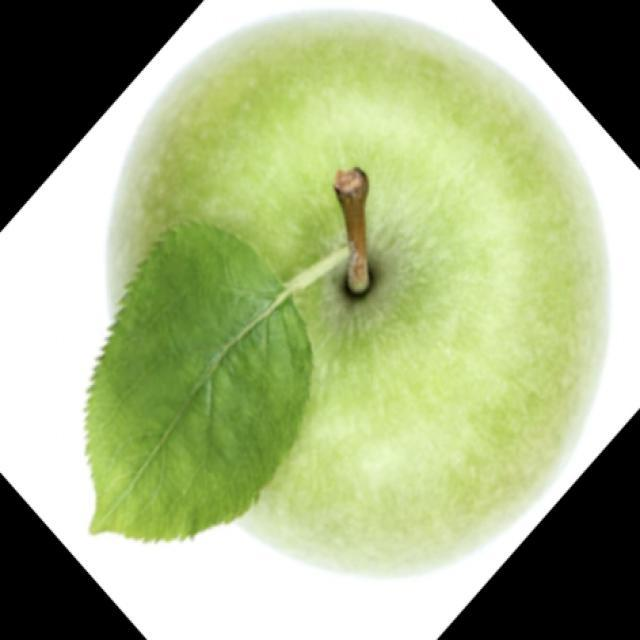Fresh Apple: (93, 28, 610, 572)
